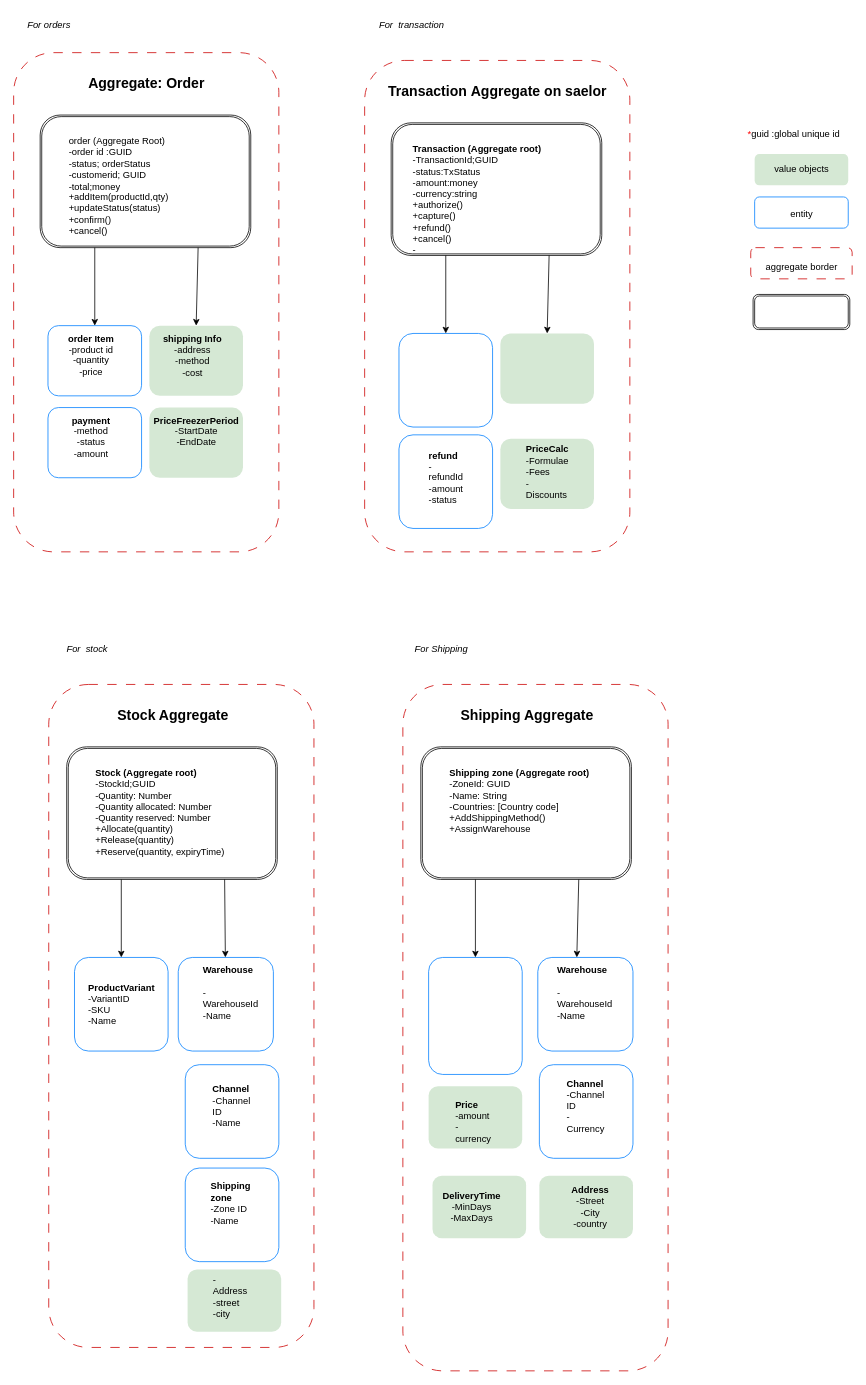
The diagram is 866 pixels wide and 1385 high, and some of its shapes have lost their labels. Here are the shapes that lost their labels. From the top down, the box of each, then its label:
(752, 294, 850, 330): aggregate root
(398, 333, 493, 427): PaymentApp -appId -provider -config
(500, 333, 594, 403): StoredPayment -CardType -Last4 -Expiry
(428, 957, 522, 1074): ShippingMethod -MethodID: GUID -Name -Min/MaxWeight
